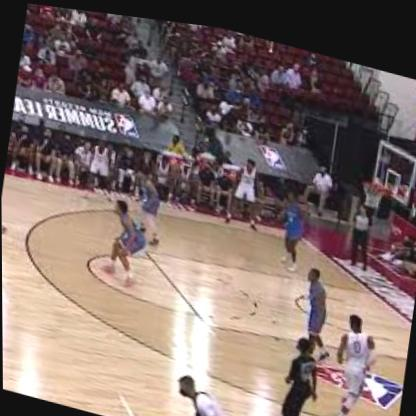rim: (361, 169, 384, 186)
